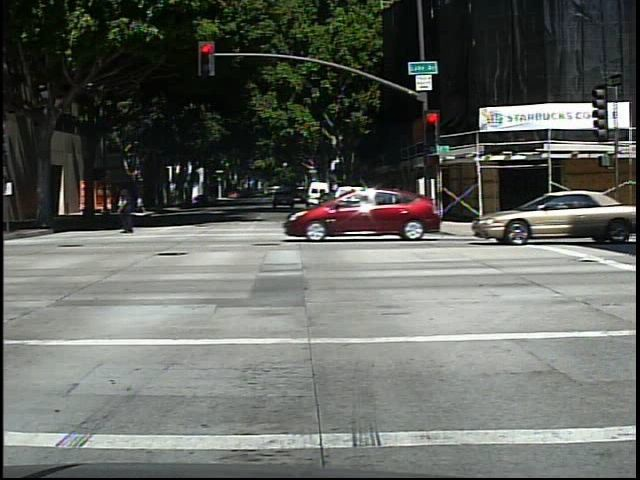person: (112, 184, 145, 236)
